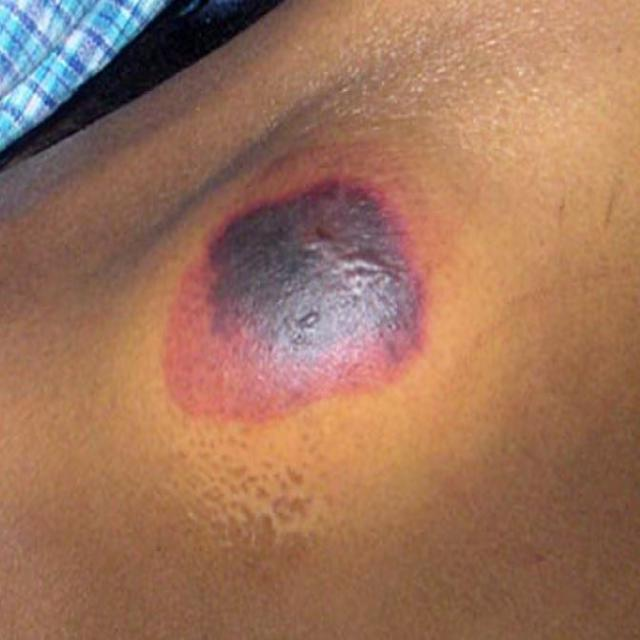DTI: (162, 172, 431, 424)
